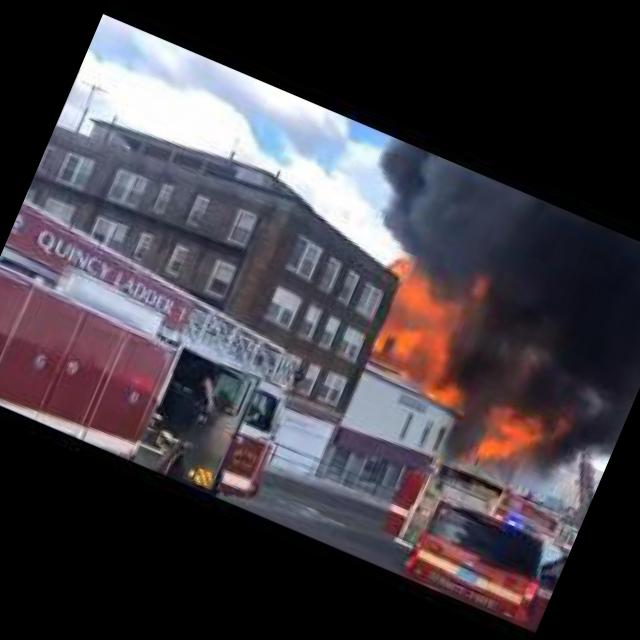fire: (320, 231, 622, 506)
smoke: (337, 152, 640, 459)
